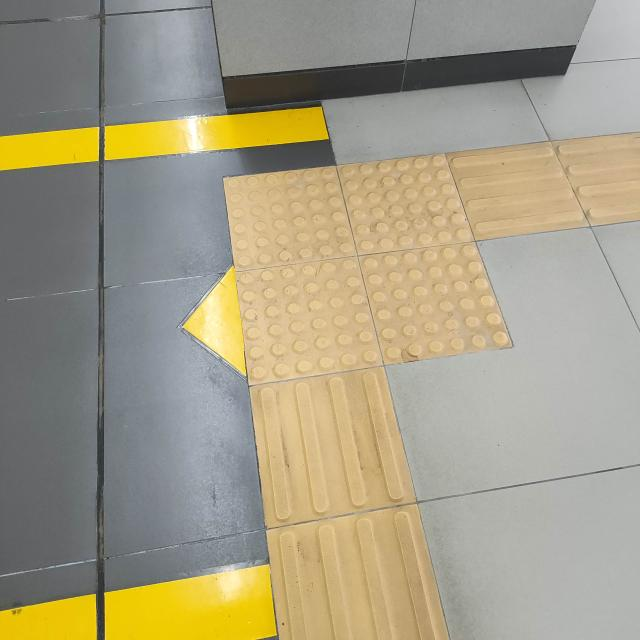kanan: (199, 137, 640, 419)
